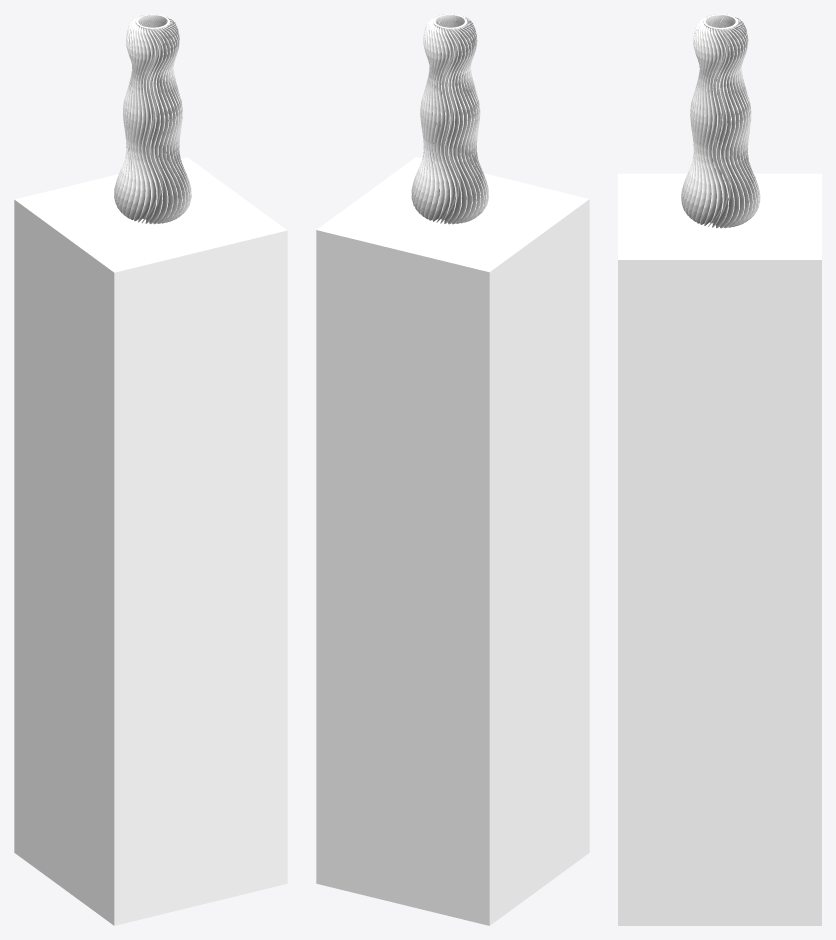
Rendered from suebox.gltf.
The picture shows the model from 3 angles, left to right: view 1: azimuth 30°, elevation 25°; view 2: azimuth 150°, elevation 25°; view 3: azimuth 270°, elevation 25°; orthographic projection.
Parts seen in each view (by area): view 1: Cube, Vase-2-V3; view 2: Cube, Vase-2-V3; view 3: Cube, Vase-2-V3.
Boxes of the visible parts, <box> form: Cube: <box>14,157,287,925</box>; Vase-2-V3: <box>114,14,191,224</box>; Cube: <box>316,157,589,925</box>; Vase-2-V3: <box>411,14,488,224</box>; Cube: <box>618,173,821,925</box>; Vase-2-V3: <box>681,14,760,228</box>.
Bounding box in the file's own units: 51.43 × 240 × 51.43.
Materials: 2 (1 with a texture image).
